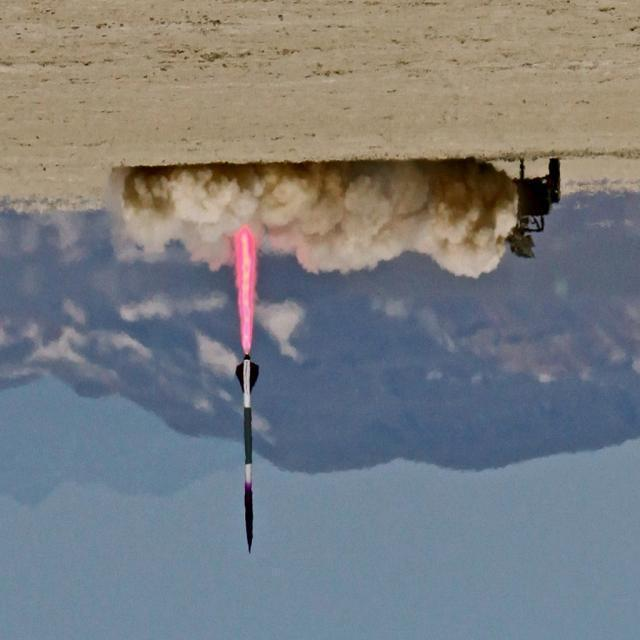missile: (229, 350, 268, 554)
